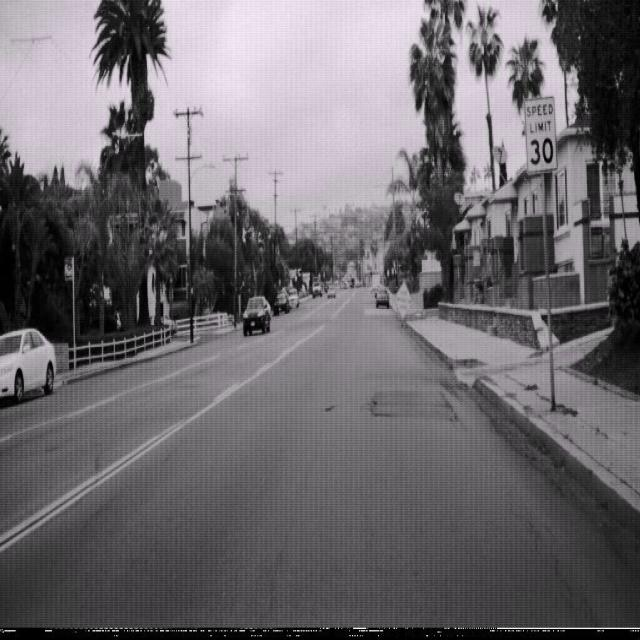speedLimit30: (523, 93, 558, 174)
